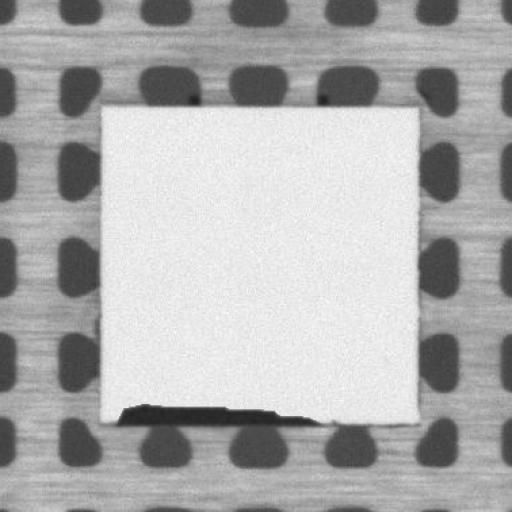DIE_BROKEN: (118, 394, 324, 426)
